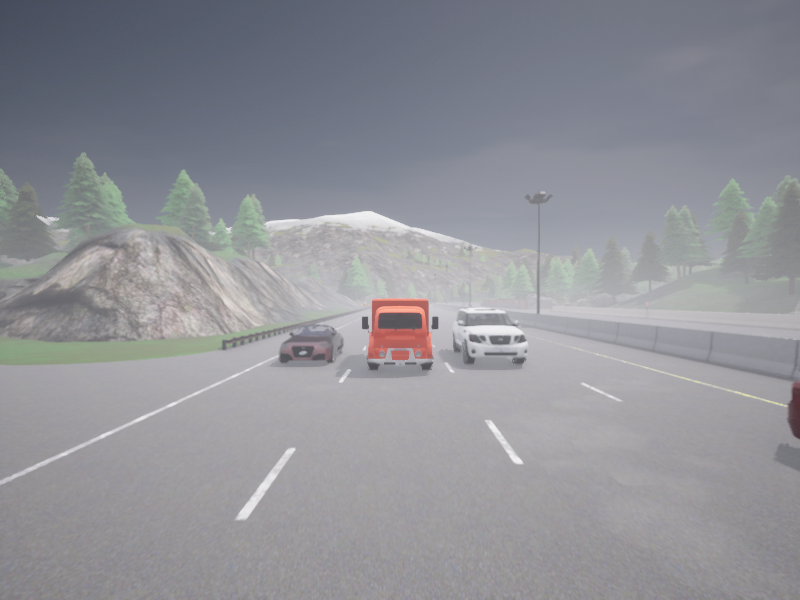vehicle: (362, 298, 438, 369), (452, 308, 527, 364), (278, 325, 343, 363), (786, 380, 799, 438), (468, 303, 471, 306), (462, 302, 466, 304)
